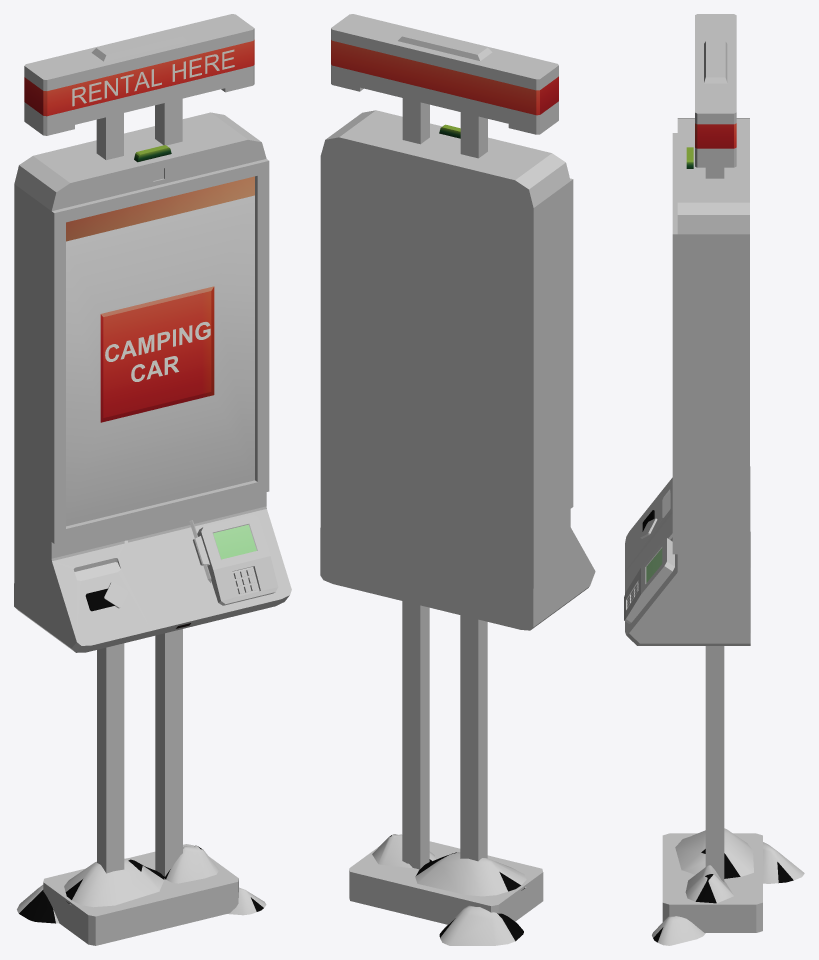
File: VE_Kiosk_008.FBX
The picture shows the model from 3 angles, left to right: view 1: azimuth 30°, elevation 25°; view 2: azimuth 150°, elevation 25°; view 3: azimuth 270°, elevation 25°; orthographic projection. The views are drawn at different scales.
Visible parts, largest first — view 1: VE_Kiosk_008, unlit; view 2: VE_Kiosk_008, unlit; view 3: VE_Kiosk_008, unlit.
Part boxes in pixels (x1,y1,x2,y2): VE_Kiosk_008: (14, 14, 291, 945); unlit: (24, 39, 256, 628); VE_Kiosk_008: (320, 14, 595, 945); unlit: (331, 40, 558, 138); VE_Kiosk_008: (624, 14, 804, 945); unlit: (646, 123, 736, 582).
Bounding box in the file's own units: 48.63 × 187 × 36.59.
